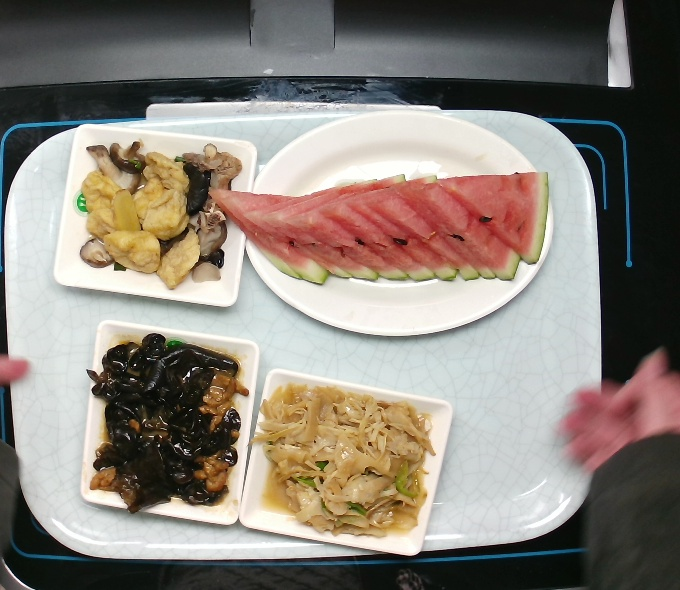wcq-LuSun: (248, 380, 449, 549)
wcq-MuErChaoRou: (79, 333, 254, 515)
wcq-XiGua: (204, 166, 559, 292)
wcq-YouPaoPaiGu: (66, 129, 239, 289)
